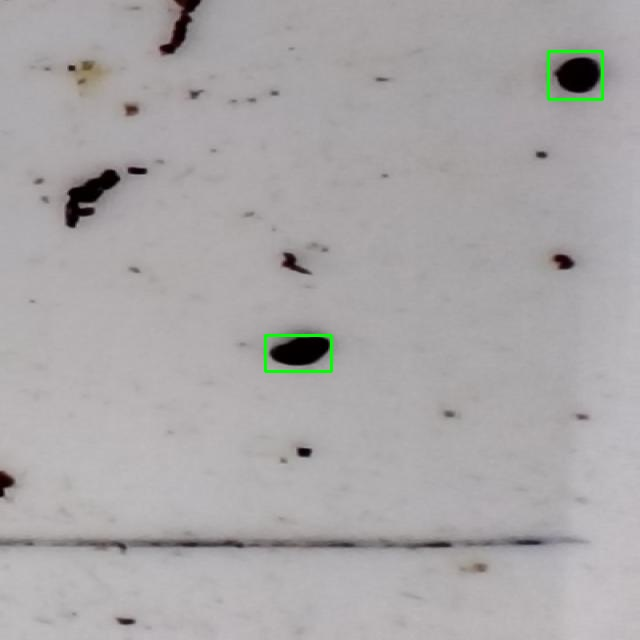varroa: (548, 51, 602, 99), (265, 335, 331, 371)
